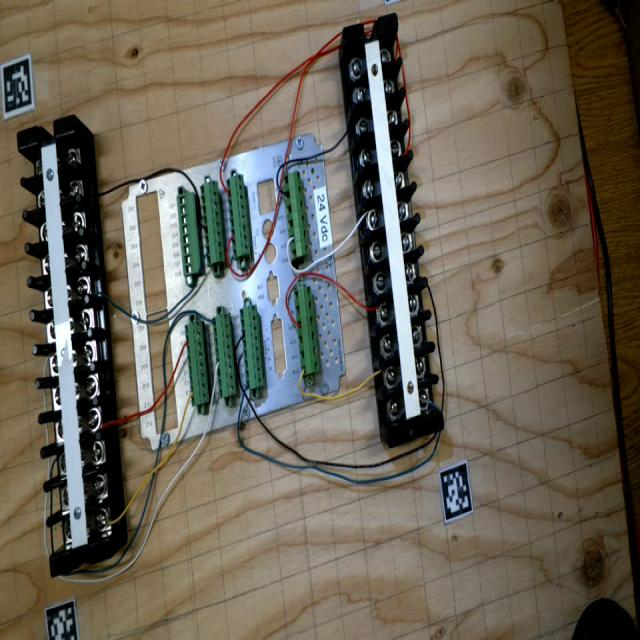Flathead_Block: (343, 13, 445, 448)
Phillips_Block: (16, 115, 111, 577)
Terminal_1: (282, 170, 310, 259), (294, 285, 319, 375)
Terminal_2: (185, 320, 210, 406), (212, 312, 237, 398), (200, 179, 225, 265), (239, 305, 264, 390), (226, 174, 251, 259)
